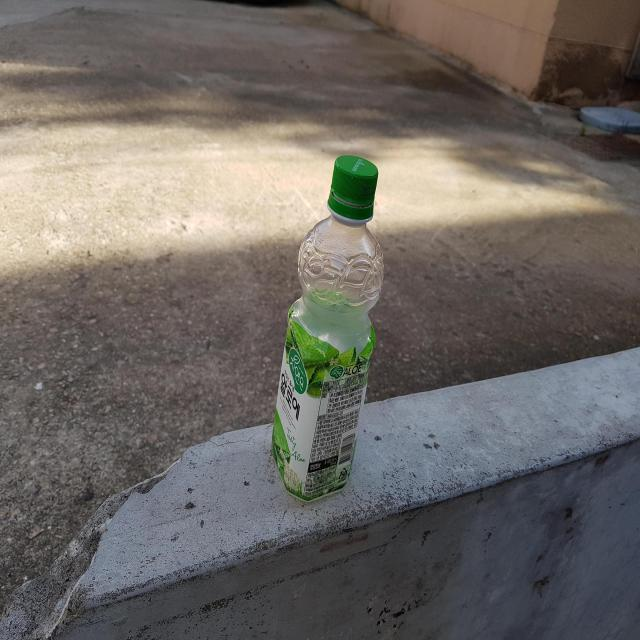plastic: (273, 154, 384, 501)
